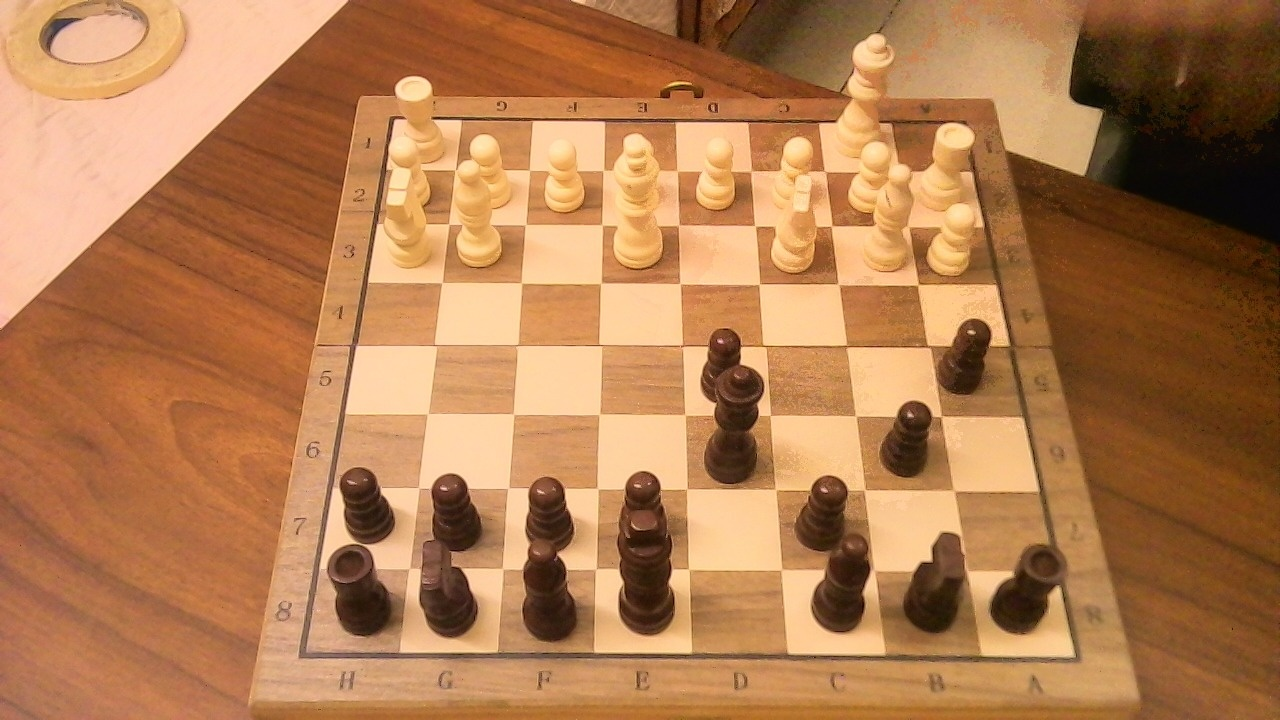B: (857, 153, 923, 277), (449, 148, 514, 271)
K: (606, 123, 673, 274)
N: (763, 163, 833, 278), (373, 190, 437, 274)
P: (840, 136, 913, 219), (761, 128, 821, 216), (458, 126, 518, 213), (922, 194, 984, 278), (688, 128, 745, 214), (535, 129, 591, 216), (384, 127, 437, 211)
Q: (826, 21, 903, 165)
R: (917, 111, 983, 215), (390, 67, 451, 167)
b: (806, 521, 885, 638), (508, 540, 591, 646)
k: (610, 520, 680, 640)
n: (899, 517, 979, 636), (411, 526, 490, 641)
p: (331, 456, 405, 544), (421, 462, 494, 551), (875, 388, 944, 480), (939, 306, 1001, 395), (618, 470, 668, 545), (803, 475, 853, 550), (538, 471, 584, 551), (700, 330, 745, 405)
q: (693, 352, 777, 487)
r: (985, 530, 1078, 636), (321, 533, 401, 638)
